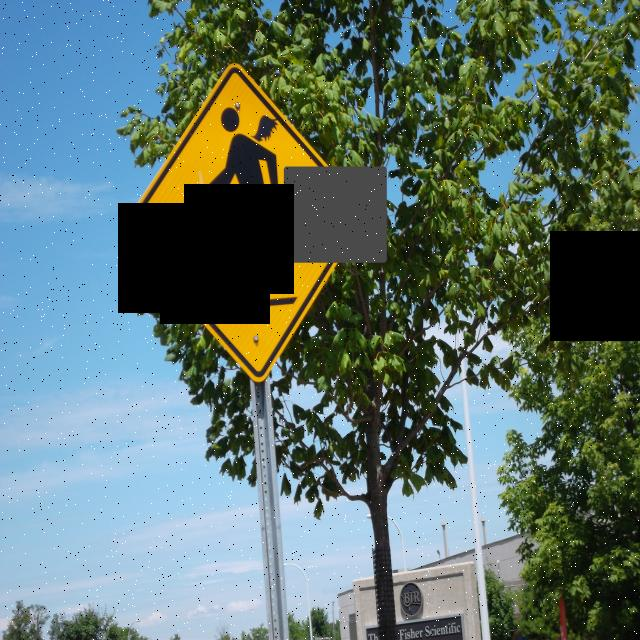warning: (128, 60, 364, 382)
